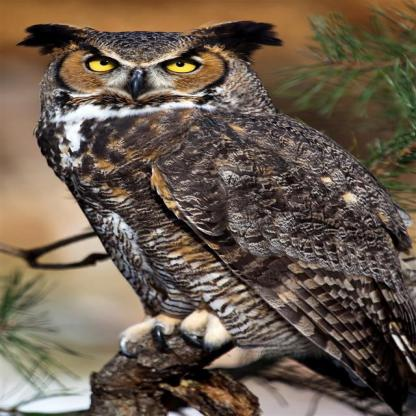owl: (10, 0, 415, 416)
